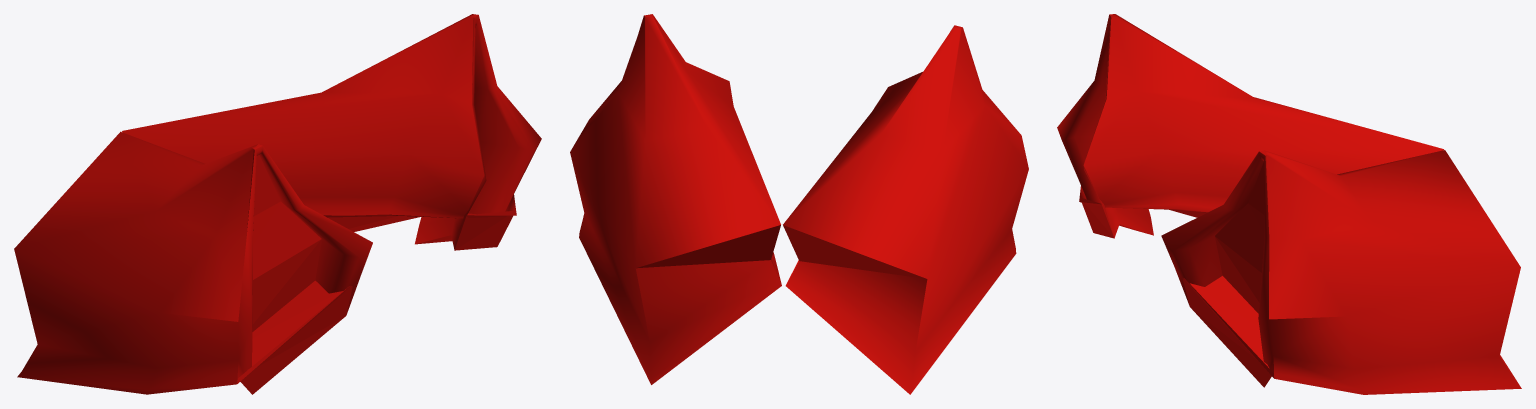
3 views of the same model, side by side, from view 1: azimuth 30°, elevation 25°; view 2: azimuth 150°, elevation 25°; view 3: azimuth 270°, elevation 25° (orthographic). The views are drawn at different scales.
Parts seen in each view (by area): view 1: ears_005; view 2: ears_005; view 3: ears_005.
Part boxes in pixels (box(x1,y1,x2,y2)): ears_005: box(14, 14, 541, 394); ears_005: box(570, 14, 1028, 394); ears_005: box(1057, 14, 1521, 394).
Size of the model in its own units: 95.46 by 86.35 by 61.67.
